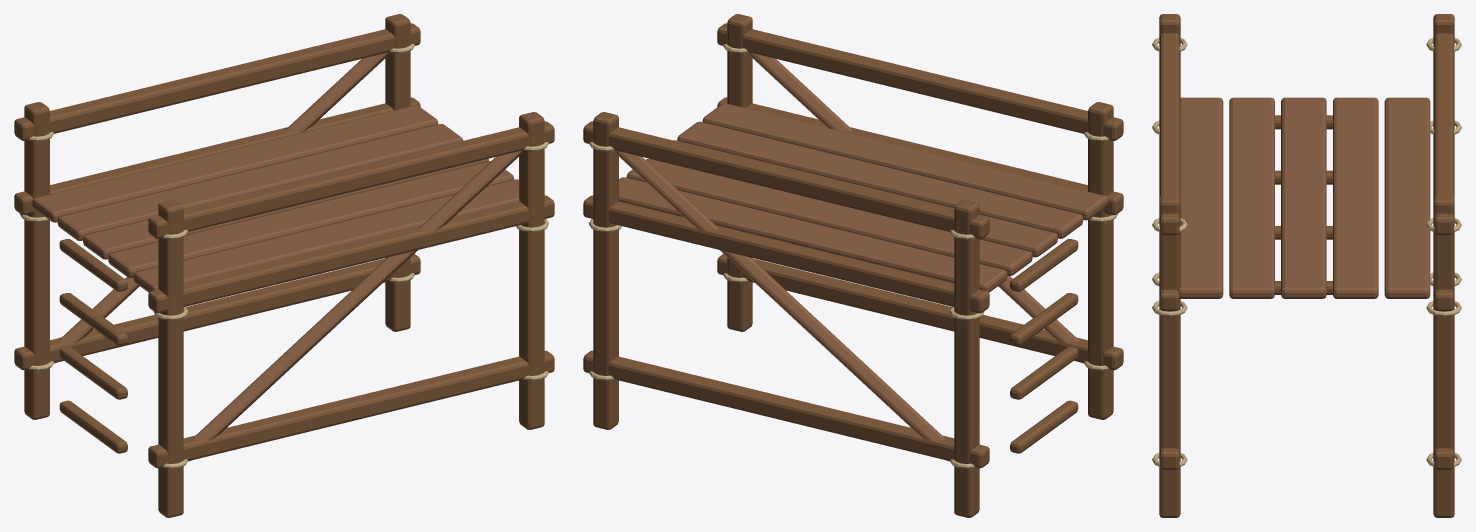
The model's file is construction_scaffold.glb.
3 renders of one model, left to right at view 1: azimuth 30°, elevation 25°; view 2: azimuth 150°, elevation 25°; view 3: azimuth 270°, elevation 25°, orthographic. The views are drawn at different scales.
Visible parts, largest first — view 1: Upright, DiagonalBrace.006, RopeLashing; view 2: Upright, DiagonalBrace.006, RopeLashing; view 3: DiagonalBrace.006, Upright, RopeLashing.
Boxes of the visible parts, <box> form: Upright: <box>14,14,554,517</box>; DiagonalBrace.006: <box>32,52,522,461</box>; RopeLashing: <box>20,44,548,468</box>; Upright: <box>583,14,1123,517</box>; DiagonalBrace.006: <box>615,52,1108,461</box>; RopeLashing: <box>589,44,1117,468</box>; DiagonalBrace.006: <box>1177,97,1430,298</box>; Upright: <box>1159,14,1454,517</box>; RopeLashing: <box>1152,38,1461,466</box>.
Size of the model in its own units: 3.1 by 2.3 by 2.03.
